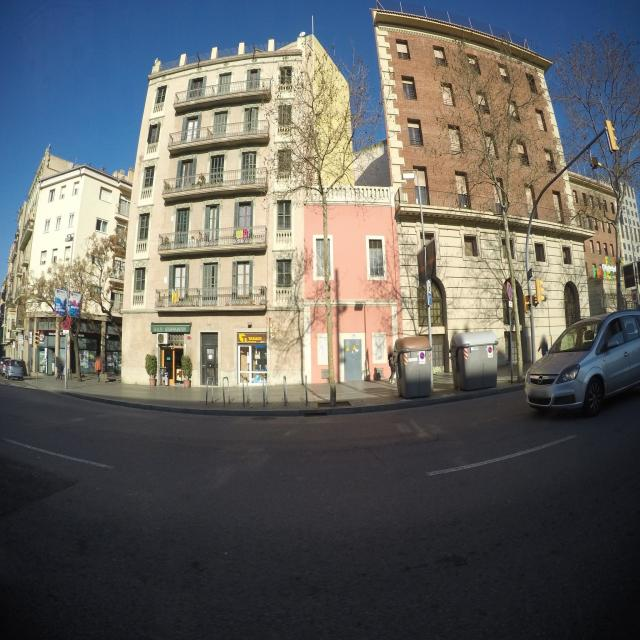forb_stopping: (487, 347, 492, 354), (419, 352, 424, 359)
forb_waiting: (62, 317, 70, 330)
